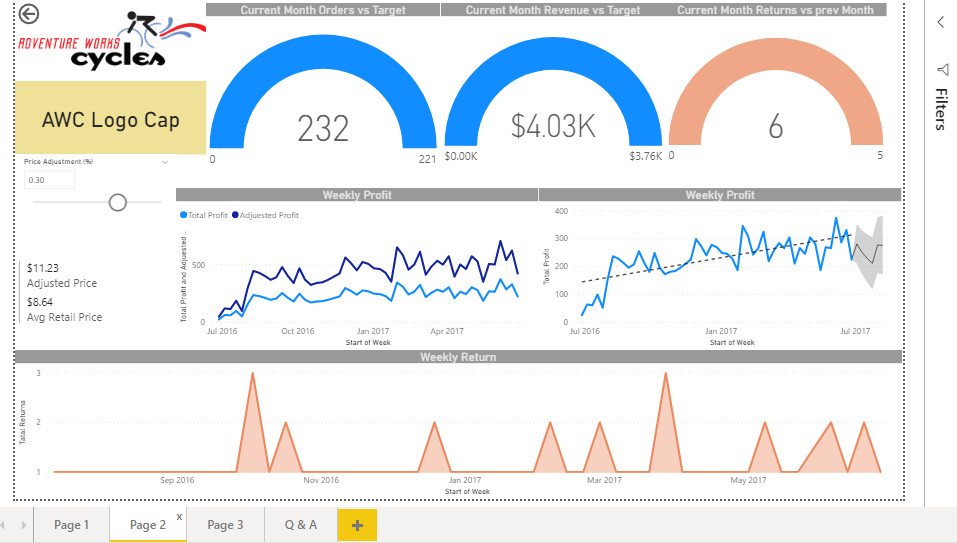

This screenshot's page, from the dashboard's own definition file:
{"tool":"powerbi","page":{"name":"Page 2","canvas":[1280,720],"ordinal":1},"visuals":[{"type":"image","box":[0,0,286.3,117.1],"z":0},{"type":"lineChart","title":"Weekly Profit","fields":{"Y":["AW_Sales.Total Profit"],"Category":["AW_Calendar_Lookup.Start of Week"]},"box":[756.1,271.8,523.4,232.8],"z":1000},{"type":"areaChart","title":"Weekly Return","fields":{"Category":["AW_Calendar_Lookup.Start of Week"],"Y":["AW_Returns.Tatal Returns"]},"box":[0,504.6,1279.5,215.4],"z":2000},{"type":"gauge","title":"Current Month Orders vs Target","fields":{"Y":["AW_Sales.Total  Order"],"MaxValue":["AW_Sales.Order Target"]},"box":[276.1,4.3,338.3,267.5],"z":3000},{"type":"gauge","title":"Current Month Revenue vs Target","fields":{"Y":["AW_Sales.Total Revenue"],"MaxValue":["AW_Sales.Revenue Target"]},"box":[614.5,4.3,323.9,267.5],"z":4000},{"type":"gauge","title":"Current Month Returns vs prev Month","fields":{"Y":["AW_Returns.Tatal Returns"],"MaxValue":["AW_Returns.Prev Month Returns"]},"box":[938.3,4.3,319.5,267.5],"z":5000},{"type":"card","fields":{"Values":["Min(AW_Product_Lookup.ProductName)"]},"box":[0,117.1,276.1,105.5],"z":6000},{"type":"actionButton","box":[0,0,100,40],"z":7000},{"type":"slicer","fields":{"Values":["Price Adjustment (%).Price Adjustment (%)"]},"box":[0,222.7,234.2,107],"z":8000},{"type":"multiRowCard","fields":{"Values":["AW_Product_Lookup.Adjusted Price","AW_Product_Lookup.Avg Retail Price"]},"box":[0,370.1,211.1,124.3],"z":9000},{"type":"lineChart","title":"Weekly Profit","fields":{"Y":["AW_Sales.Total Profit","AW_Sales.Adjuested Profit"],"Category":["AW_Calendar_Lookup.Start of Week"]},"box":[232.8,271.8,523.4,232.8],"z":10000}]}

Visuals, with their boxes on the page's 1280x720 design canvas (x1, y1, x2, y2). These are canvas units, not pixel positions in the 957x543 screenshot, which may show the page scaled, cropped or inside an application window:
image: 0 0 286 117
"Weekly Profit" lineChart: 756 272 1280 505
"Weekly Return" areaChart: 0 505 1280 720
"Current Month Orders vs Target" gauge: 276 4 614 272
"Current Month Revenue vs Target" gauge: 614 4 938 272
"Current Month Returns vs prev Month" gauge: 938 4 1258 272
card - Min(AW_Product_Lookup.ProductName): 0 117 276 223
actionButton: 0 0 100 40
slicer - Price Adjustment (%).Price Adjustment (%): 0 223 234 330
multiRowCard - AW_Product_Lookup.Adjusted Price x AW_Product_Lookup.Avg Retail Price: 0 370 211 494
"Weekly Profit" lineChart: 233 272 756 505
